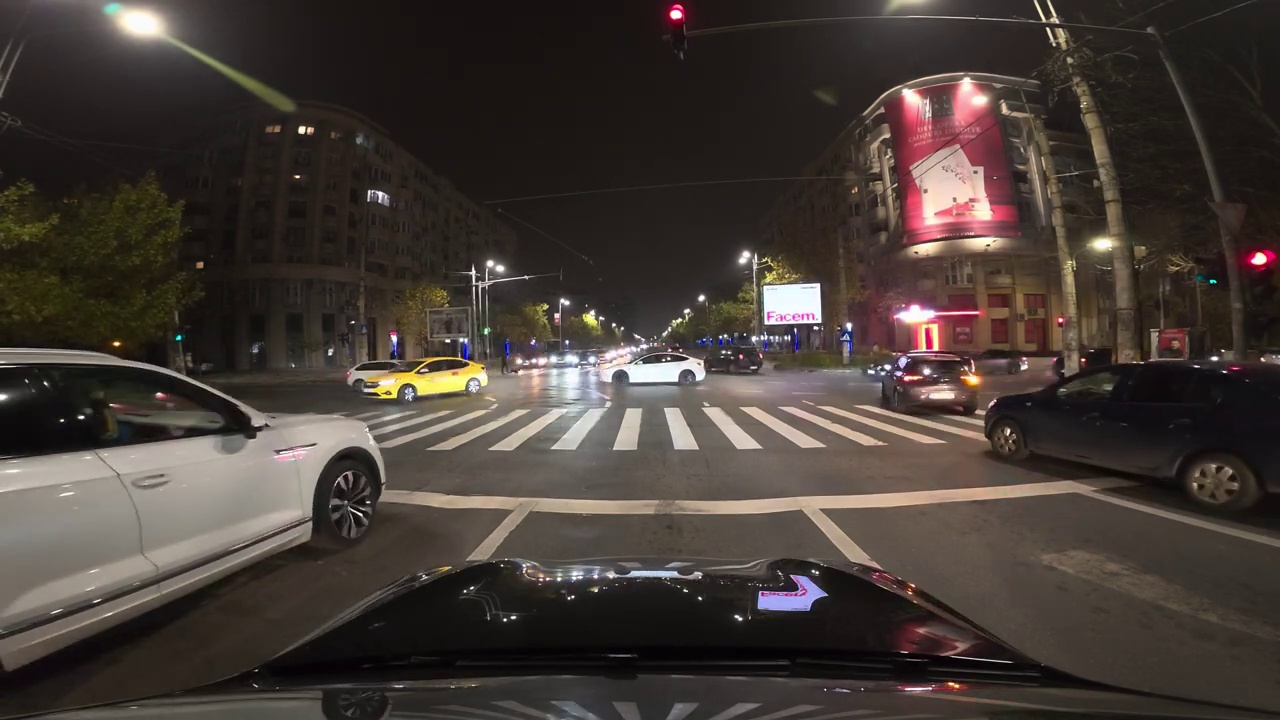acesa: (112, 5, 167, 45), (957, 81, 987, 109), (1089, 234, 1115, 255), (735, 248, 754, 268)
